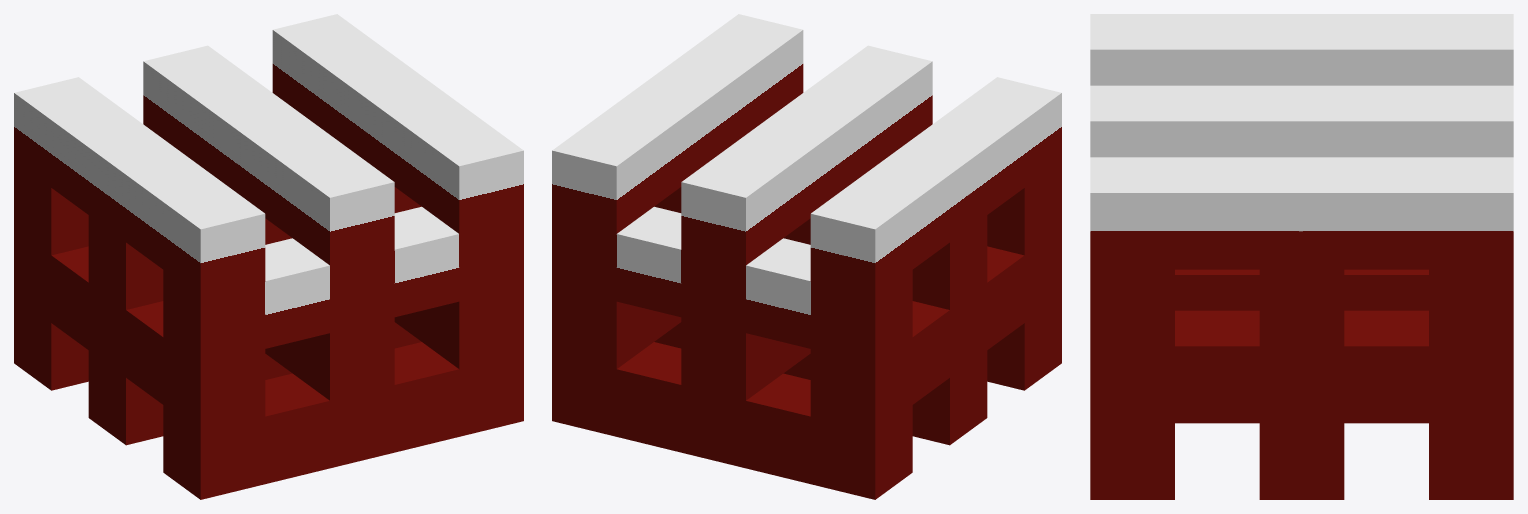
The model's file is Wood.fbx.
3 renders of one model, left to right at view 1: azimuth 30°, elevation 25°; view 2: azimuth 150°, elevation 25°; view 3: azimuth 270°, elevation 25°, orthographic. The views are drawn at different scales.
Parts seen in each view (by area): view 1: Wood; view 2: Wood; view 3: Wood.
Part boxes in pixels (x1,y1,x2,y2): Wood: (14, 14, 523, 499); Wood: (552, 14, 1061, 499); Wood: (1090, 14, 1513, 499).
Size of the model in its own units: 10 by 8 by 10.
Materials: 1 (1 with a texture image).
